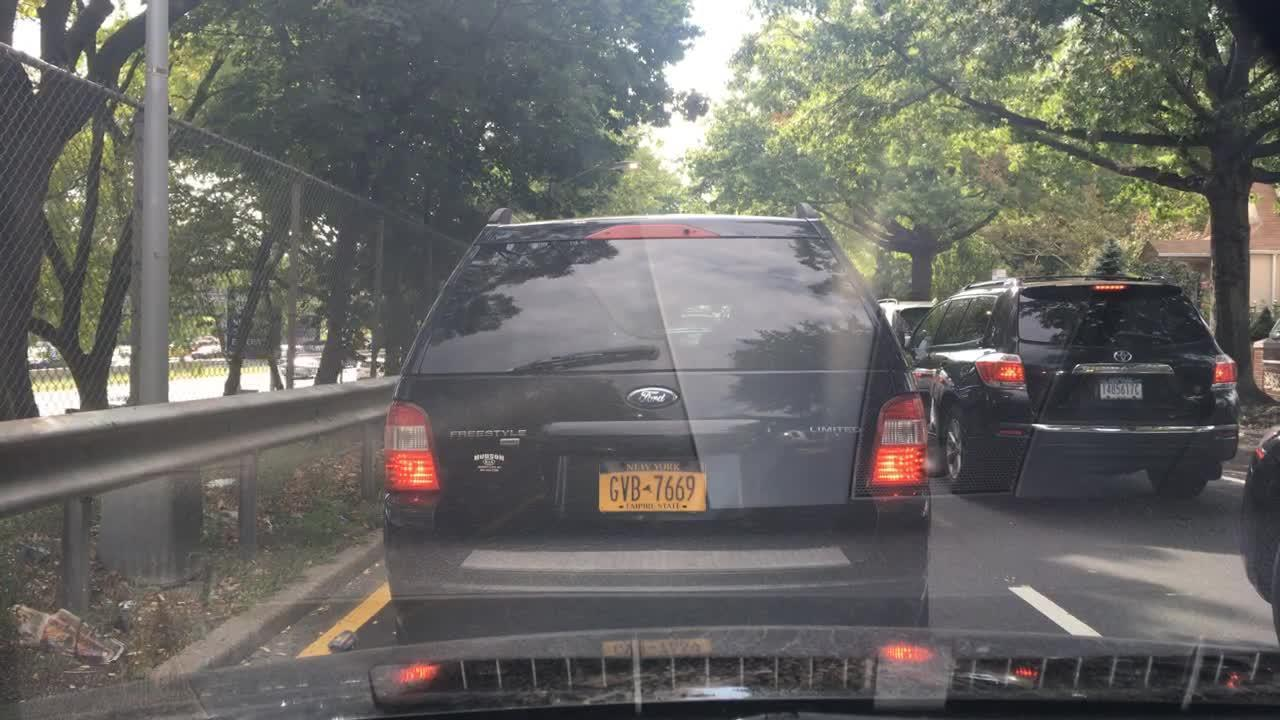Toyota: (1112, 348, 1136, 366)
ford: (621, 379, 692, 417)
